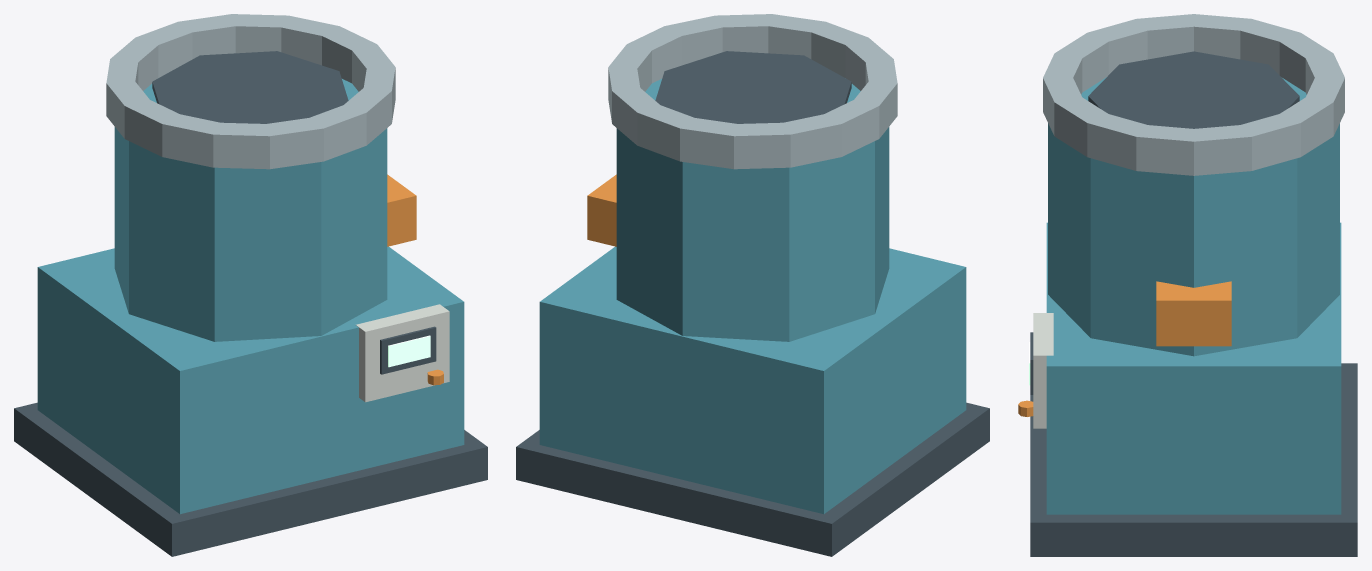
The model's file is parts-tumbling-machine.glb.
3 views of the same model, side by side, from view 1: azimuth 30°, elevation 25°; view 2: azimuth 150°, elevation 25°; view 3: azimuth 270°, elevation 25° (orthographic). The views are drawn at different scales.
Visible parts, largest first — view 1: blue, dark, steel, cream, orange, light; view 2: blue, dark, steel, orange; view 3: blue, dark, steel, orange, cream.
Boxes of the visible parts, x1,y1,x2,y2 form: blue: (37, 79, 464, 514); dark: (14, 51, 487, 556); steel: (106, 14, 395, 169); cream: (356, 304, 449, 402); orange: (387, 174, 443, 385); light: (388, 335, 430, 367); blue: (539, 79, 966, 514); dark: (516, 51, 989, 556); steel: (608, 14, 897, 169); orange: (587, 174, 616, 246); blue: (1046, 77, 1341, 514); dark: (1030, 51, 1357, 556); steel: (1043, 14, 1344, 175); orange: (1018, 281, 1231, 416); cream: (1033, 313, 1053, 428).
Bounding box in the file's own units: 1.5 × 1.75 × 1.35.
